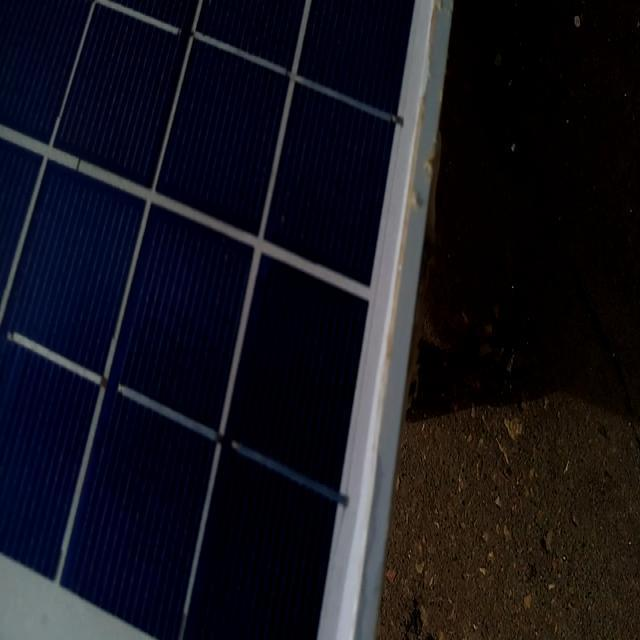Normal Solar Panel: (0, 0, 452, 638)
